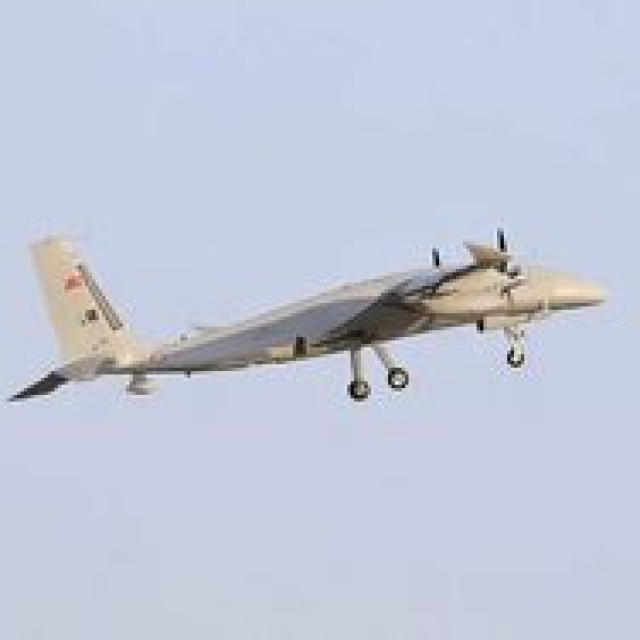military drone: (0, 226, 609, 401)
